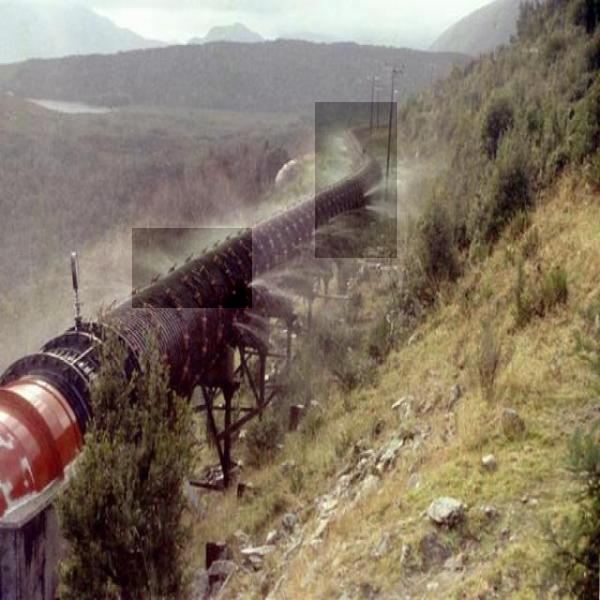leak: (315, 102, 397, 258), (132, 228, 252, 308)
